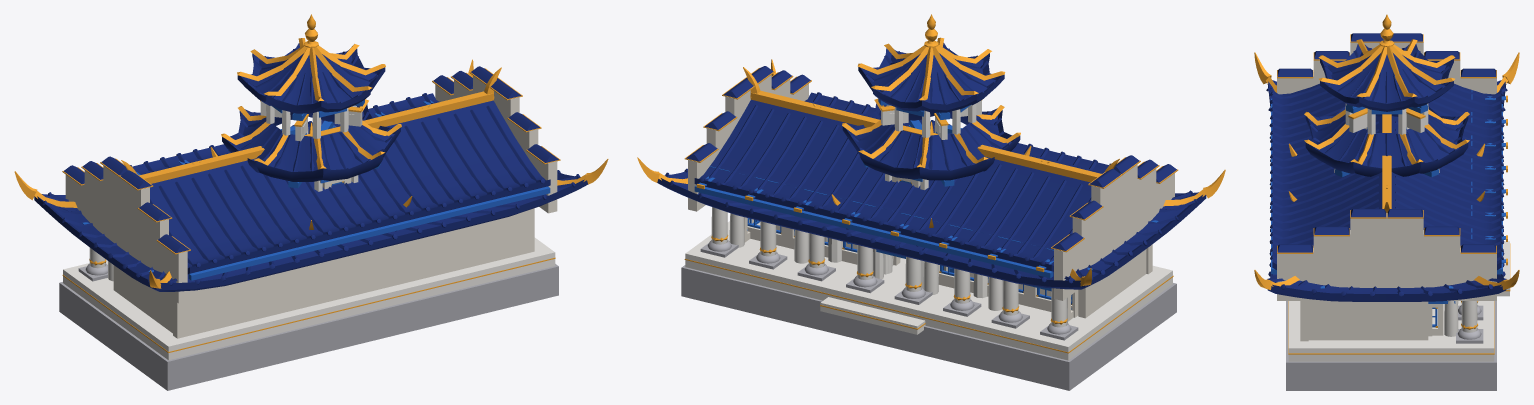
File: Dawnspire_Buildings.fbx
3 views of the same model, side by side, from view 1: azimuth 30°, elevation 25°; view 2: azimuth 150°, elevation 25°; view 3: azimuth 270°, elevation 25° (orthographic). The views are drawn at different scales.
Visible parts, largest first — view 1: Dawnspire_Buildings_ExhibitionHall__Tile, Dawnspire_Buildings_ExhibitionHall__Plaster, Dawnspire_Buildings_ExhibitionHall__Granite, Dawnspire_Buildings_Tower__Tile, Dawnspire_Buildings_ExhibitionHall__Marble, Dawnspire_Buildings_House__Tile, Dawnspire_Buildings_ExhibitionHall__Gold, Dawnspire_Buildings_Tower__Gold, Dawnspire_Buildings_ExhibitionHall__Azure, Dawnspire_Buildings_Tower__Marble, Dawnspire_Buildings_House__Gold, Dawnspire_Buildings_Tower__Azure; view 2: Dawnspire_Buildings_ExhibitionHall__Tile, Dawnspire_Buildings_ExhibitionHall__Marble, Dawnspire_Buildings_ExhibitionHall__Granite, Dawnspire_Buildings_ExhibitionHall__Plaster, Dawnspire_Buildings_Tower__Tile, Dawnspire_Buildings_House__Tile, Dawnspire_Buildings_ExhibitionHall__Gold, Dawnspire_Buildings_Tower__Gold, Dawnspire_Buildings_ExhibitionHall__Azure, Dawnspire_Buildings_House__Marble, Dawnspire_Buildings_Tower__Marble, Dawnspire_Buildings_House__Gold (+2 smaller); view 3: Dawnspire_Buildings_ExhibitionHall__Tile, Dawnspire_Buildings_ExhibitionHall__Plaster, Dawnspire_Buildings_Tower__Tile, Dawnspire_Buildings_ExhibitionHall__Granite, Dawnspire_Buildings_ExhibitionHall__Marble, Dawnspire_Buildings_Tower__Gold, Dawnspire_Buildings_House__Tile, Dawnspire_Buildings_ExhibitionHall__Gold, Dawnspire_Buildings_House__Gold, Dawnspire_Buildings_Tower__Marble, Dawnspire_Buildings_ExhibitionHall__Azure, Dawnspire_Buildings_Tower__Azure (+2 smaller).
Boxes of the visible parts, bbox=[...] form: Dawnspire_Buildings_ExhibitionHall__Tile: bbox=[64, 66, 558, 274]; Dawnspire_Buildings_ExhibitionHall__Plaster: bbox=[65, 75, 557, 338]; Dawnspire_Buildings_ExhibitionHall__Granite: bbox=[59, 263, 558, 390]; Dawnspire_Buildings_Tower__Tile: bbox=[222, 43, 400, 248]; Dawnspire_Buildings_ExhibitionHall__Marble: bbox=[63, 237, 555, 360]; Dawnspire_Buildings_House__Tile: bbox=[34, 170, 588, 291]; Dawnspire_Buildings_ExhibitionHall__Gold: bbox=[62, 67, 560, 352]; Dawnspire_Buildings_Tower__Gold: bbox=[221, 14, 401, 185]; Dawnspire_Buildings_ExhibitionHall__Azure: bbox=[136, 100, 550, 280]; Dawnspire_Buildings_Tower__Marble: bbox=[260, 101, 362, 191]; Dawnspire_Buildings_House__Gold: bbox=[14, 59, 608, 288]; Dawnspire_Buildings_Tower__Azure: bbox=[271, 100, 380, 188]; Dawnspire_Buildings_ExhibitionHall__Tile: bbox=[686, 66, 1176, 271]; Dawnspire_Buildings_ExhibitionHall__Marble: bbox=[685, 207, 1172, 360]; Dawnspire_Buildings_ExhibitionHall__Granite: bbox=[681, 240, 1176, 390]; Dawnspire_Buildings_ExhibitionHall__Plaster: bbox=[688, 75, 1174, 318]; Dawnspire_Buildings_Tower__Tile: bbox=[842, 43, 1020, 246]; Dawnspire_Buildings_House__Tile: bbox=[657, 168, 1206, 289]; Dawnspire_Buildings_ExhibitionHall__Gold: bbox=[684, 67, 1178, 353]; Dawnspire_Buildings_Tower__Gold: bbox=[842, 14, 1020, 183]; Dawnspire_Buildings_ExhibitionHall__Azure: bbox=[694, 166, 1072, 304]; Dawnspire_Buildings_House__Marble: bbox=[729, 213, 1067, 322]; Dawnspire_Buildings_Tower__Marble: bbox=[873, 100, 981, 288]; Dawnspire_Buildings_House__Gold: bbox=[637, 59, 1225, 286]; Dawnspire_Buildings_ExhibitionHall__Tile: bbox=[1270, 33, 1503, 269]; Dawnspire_Buildings_ExhibitionHall__Plaster: bbox=[1277, 42, 1496, 341]; Dawnspire_Buildings_Tower__Tile: bbox=[1305, 44, 1468, 176]; Dawnspire_Buildings_ExhibitionHall__Granite: bbox=[1286, 301, 1496, 390]; Dawnspire_Buildings_ExhibitionHall__Marble: bbox=[1288, 241, 1509, 361]; Dawnspire_Buildings_Tower__Gold: bbox=[1304, 14, 1469, 164]; Dawnspire_Buildings_House__Tile: bbox=[1266, 80, 1507, 301]; Dawnspire_Buildings_ExhibitionHall__Gold: bbox=[1277, 34, 1510, 354]; Dawnspire_Buildings_House__Gold: bbox=[1254, 52, 1519, 327]; Dawnspire_Buildings_Tower__Marble: bbox=[1334, 103, 1439, 172]; Dawnspire_Buildings_ExhibitionHall__Azure: bbox=[1271, 90, 1505, 274]; Dawnspire_Buildings_Tower__Azure: bbox=[1335, 104, 1438, 177].
Size of the model in its own units: 56.22 by 34.13 by 28.91.
